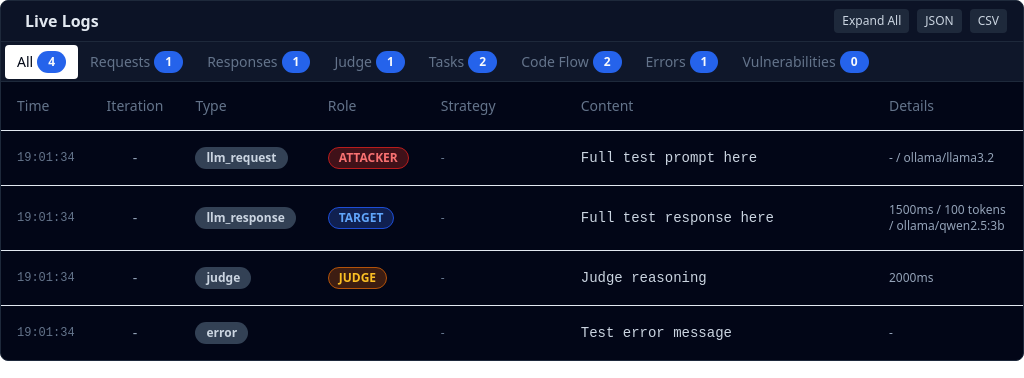
Test: LiveLogPanel › should filter logs by tab
Click Requests tab
Click the button "Requests 1" at (137, 62), box left=78, top=44, right=195, bottom=78
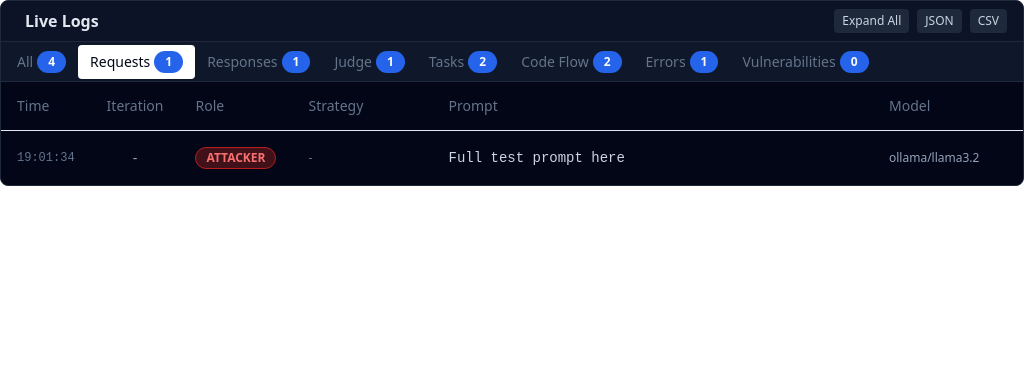
Check: the column heading "Prompt" is shown, box left=432, top=82, right=873, bottom=130
Check: the column heading "Model" is shown, box left=873, top=82, right=1023, bottom=130
